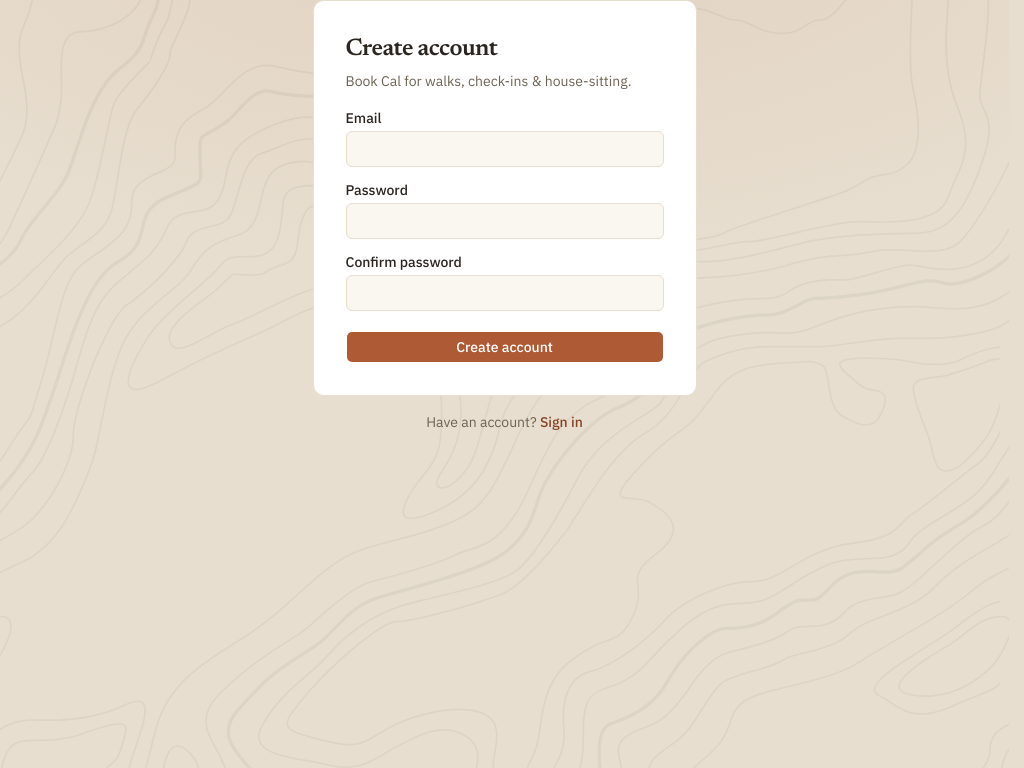
SignupCard › reports a mismatched confirmation at the confirm field
Type "kiche@example.com" into the field labelled "Email" at (504, 149), box [346,131,664,167]
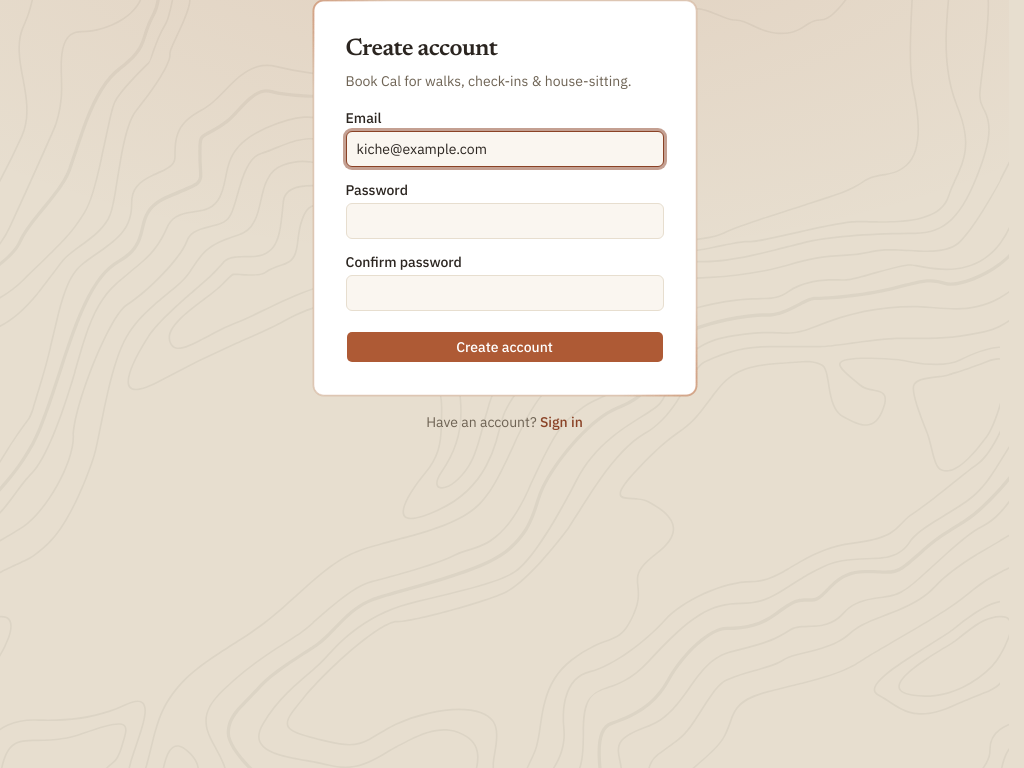
Type "password1" into the password field labelled "Password" at (504, 221), box [346,203,664,239]
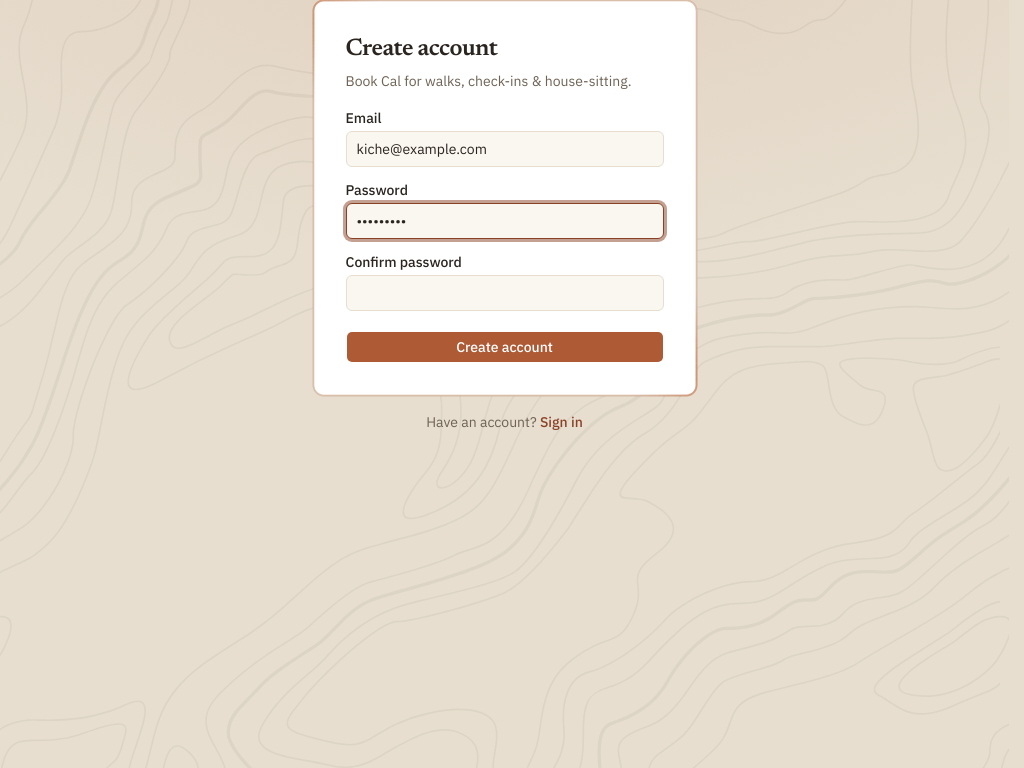
Type "password2" into the password field labelled "Confirm password" at (504, 293), box [346,275,664,311]
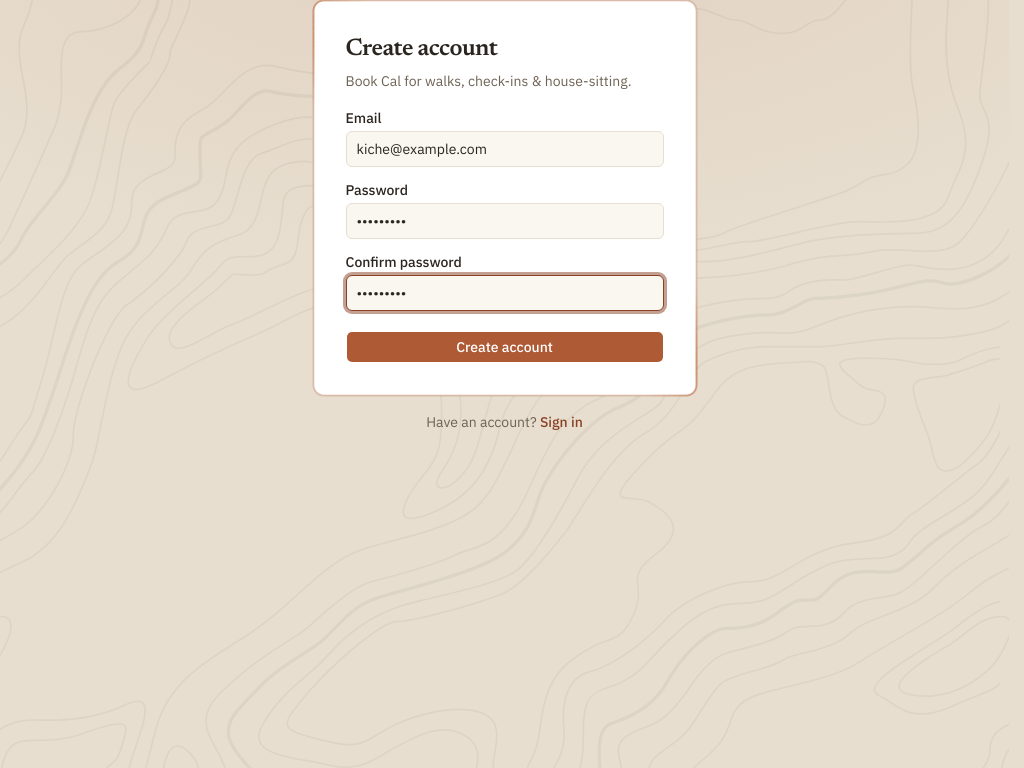
Click the button "Create account" at (504, 347), box [346,331,664,363]
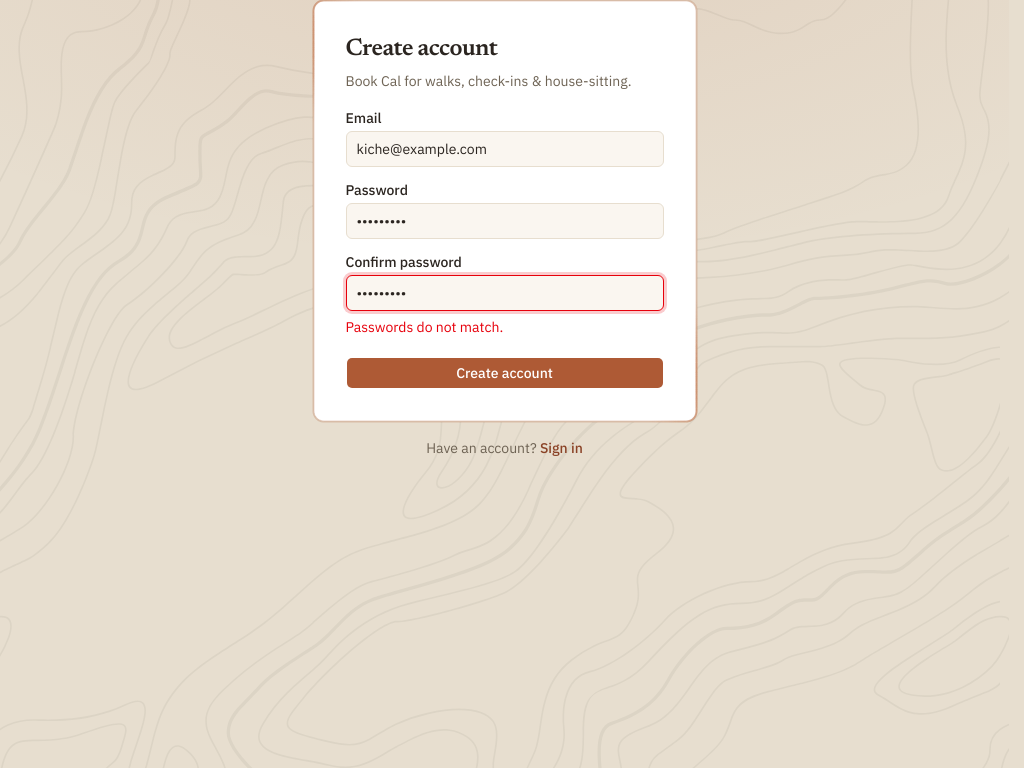
Check: the text "Passwords do not match." is shown, box [346,318,503,336]
